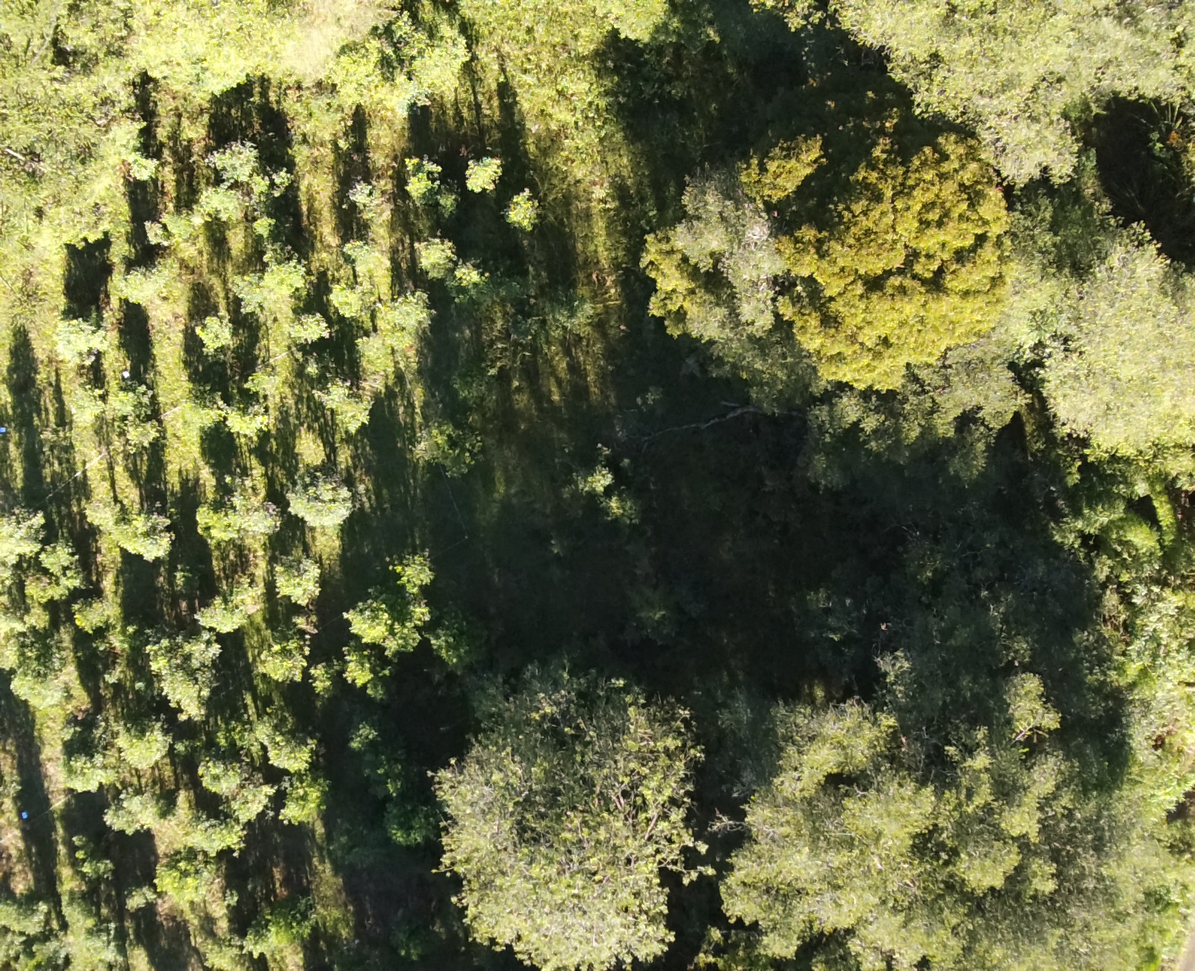erva: (288, 465, 354, 537), (252, 237, 315, 300), (254, 628, 313, 689), (264, 722, 326, 778), (277, 307, 342, 357), (120, 500, 177, 557), (159, 665, 217, 720), (107, 715, 164, 770), (272, 550, 322, 610), (199, 177, 254, 231), (190, 594, 251, 641), (455, 142, 505, 199), (54, 308, 104, 365), (173, 623, 224, 675), (192, 494, 240, 549), (0, 503, 44, 561), (117, 260, 171, 307), (377, 292, 438, 332), (223, 403, 277, 447), (330, 645, 384, 687), (341, 597, 391, 642), (217, 568, 268, 612), (208, 130, 252, 180), (102, 789, 163, 825), (196, 303, 233, 360), (399, 152, 438, 205), (82, 487, 125, 534), (338, 232, 387, 272), (17, 572, 71, 608), (398, 536, 433, 591), (196, 753, 248, 790), (40, 533, 81, 577), (415, 232, 451, 281), (304, 652, 343, 696), (239, 370, 289, 404), (230, 777, 273, 816), (114, 418, 161, 452), (330, 277, 370, 316), (119, 376, 161, 412), (503, 192, 547, 224), (72, 595, 117, 626), (257, 161, 294, 196), (452, 249, 489, 282), (402, 598, 437, 625)
